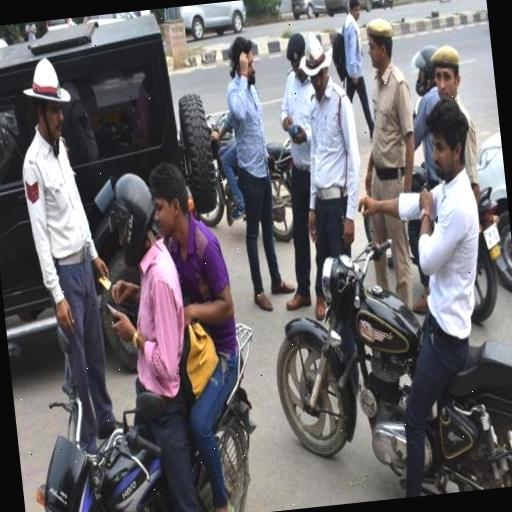helmet: (28, 154, 192, 512)
no helmet: (314, 88, 504, 463)
